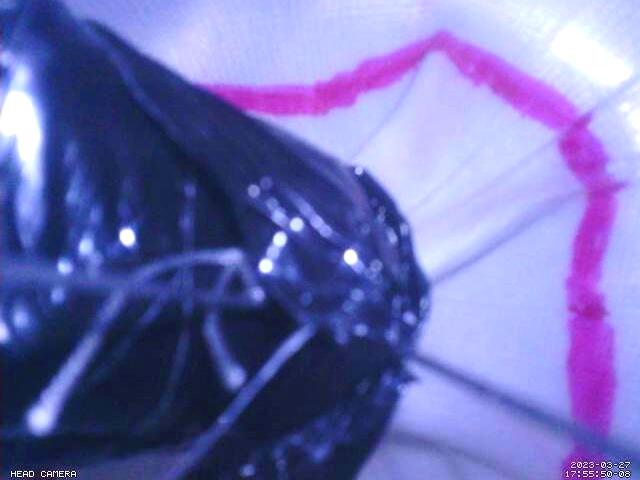red-circle: (197, 28, 618, 480)
